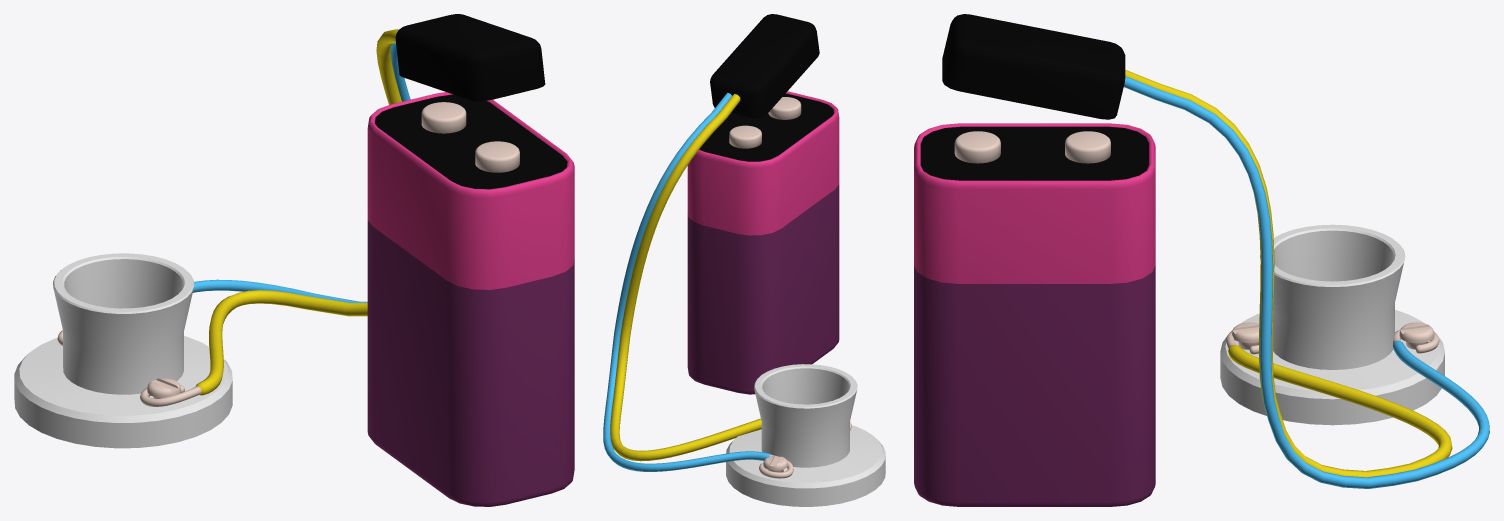
The model's file is LampAccessories.fbx.
The picture shows the model from 3 angles, left to right: view 1: azimuth 30°, elevation 25°; view 2: azimuth 150°, elevation 25°; view 3: azimuth 270°, elevation 25°; orthographic projection. The views are drawn at different scales.
Parts seen in each view (by area): view 1: Battery, LampHolder, Connector; view 2: Battery, Connector, LampHolder; view 3: Battery, Connector, LampHolder.
Part boxes in pixels (<box>): Battery: <box>367,92,574,506</box>; LampHolder: <box>14,253,232,448</box>; Connector: <box>57,14,545,406</box>; Battery: <box>687,91,839,394</box>; Connector: <box>603,14,851,478</box>; LampHolder: <box>726,364,885,506</box>; Battery: <box>914,123,1155,506</box>; Connector: <box>942,14,1489,488</box>; LampHolder: <box>1220,224,1444,425</box>.
Size of the model in its own units: 52.7 by 57.49 by 66.5.
